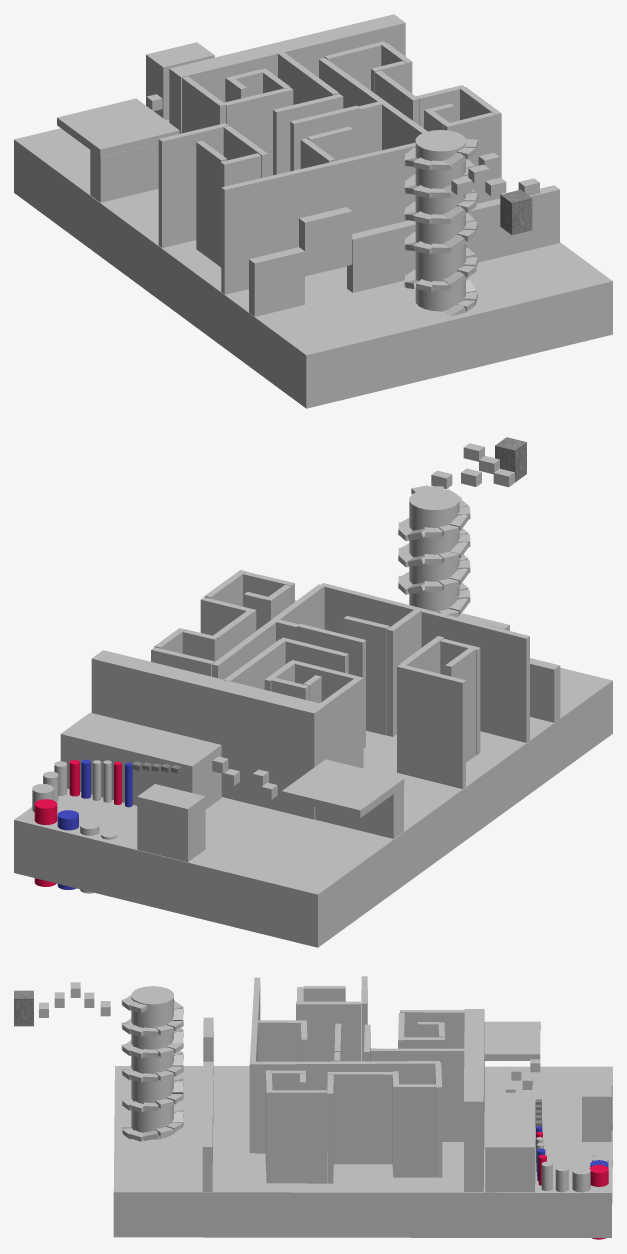
Rendered from stage.fbx.
3 renders of one model, top to bottom at view 1: azimuth 30°, elevation 25°; view 2: azimuth 150°, elevation 25°; view 3: azimuth 270°, elevation 25°, orthographic. The views are drawn at different scales.
Parts seen in each view (by area): view 1: base, mazewall26, wall3, wall, pillar, mazewall2, asiba2, wall4, wall2, movewall, mazewall6, mazewall15 (+20 smaller); view 2: base, wall, mazewall26, asiba, mazewall2, start, pillar, asiba2, mazewall1, mazewall15, mazewall13, mazewall12 (+17 smaller); view 3: base, mazewall22, mazewall20, asiba, pillar, mazewall18, mazewall15, wall, mazewall4, mazewall16, asiba2, start (+14 smaller).
Part boxes in pixels (<box>): base: <box>14,119,612,408</box>; mazewall26: <box>221,142,415,294</box>; wall3: <box>347,185,559,292</box>; wall: <box>169,14,405,133</box>; pillar: <box>415,130,465,311</box>; mazewall2: <box>158,123,228,247</box>; asiba2: <box>57,98,179,157</box>; wall4: <box>249,247,304,316</box>; wall2: <box>90,143,158,202</box>; movewall: <box>299,207,352,275</box>; mazewall6: <box>196,140,226,266</box>; mazewall15: <box>319,58,427,150</box>; base: <box>14,667,612,947</box>; wall: <box>91,650,326,819</box>; mazewall26: <box>321,583,529,742</box>; asiba: <box>60,712,221,809</box>; mazewall2: <box>397,664,465,788</box>; start: <box>137,784,205,862</box>; pillar: <box>409,488,459,615</box>; asiba2: <box>282,759,404,817</box>; mazewall1: <box>320,676,363,768</box>; mazewall15: <box>212,584,324,679</box>; mazewall13: <box>343,616,389,735</box>; mazewall12: <box>387,609,421,736</box>; base: <box>113,1066,612,1237</box>; mazewall22: <box>266,1090,326,1183</box>; mazewall20: <box>327,1072,392,1164</box>; asiba: <box>485,1092,535,1192</box>; pillar: <box>131,986,173,1139</box>; mazewall18: <box>393,1084,435,1177</box>; mazewall15: <box>255,1061,439,1153</box>; wall: <box>464,1009,484,1191</box>; mazewall4: <box>296,1001,360,1061</box>; mazewall16: <box>370,1048,464,1141</box>; asiba2: <box>484,1021,540,1060</box>; start: <box>582,1075,611,1141</box>.
Bounding box in the file's own units: 3019 × 6013 × 2084.
